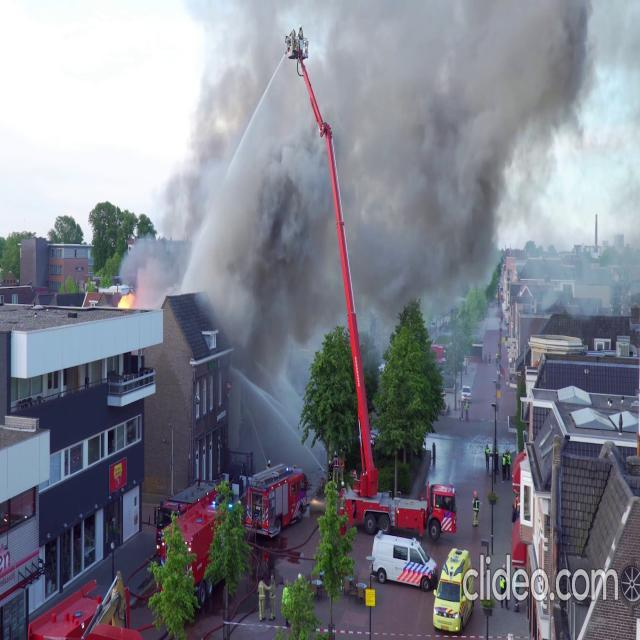Fire: (114, 284, 134, 312)
Smoke: (142, 0, 636, 340)
